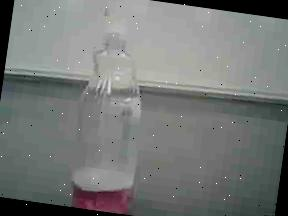hazard: (55, 0, 177, 216)
